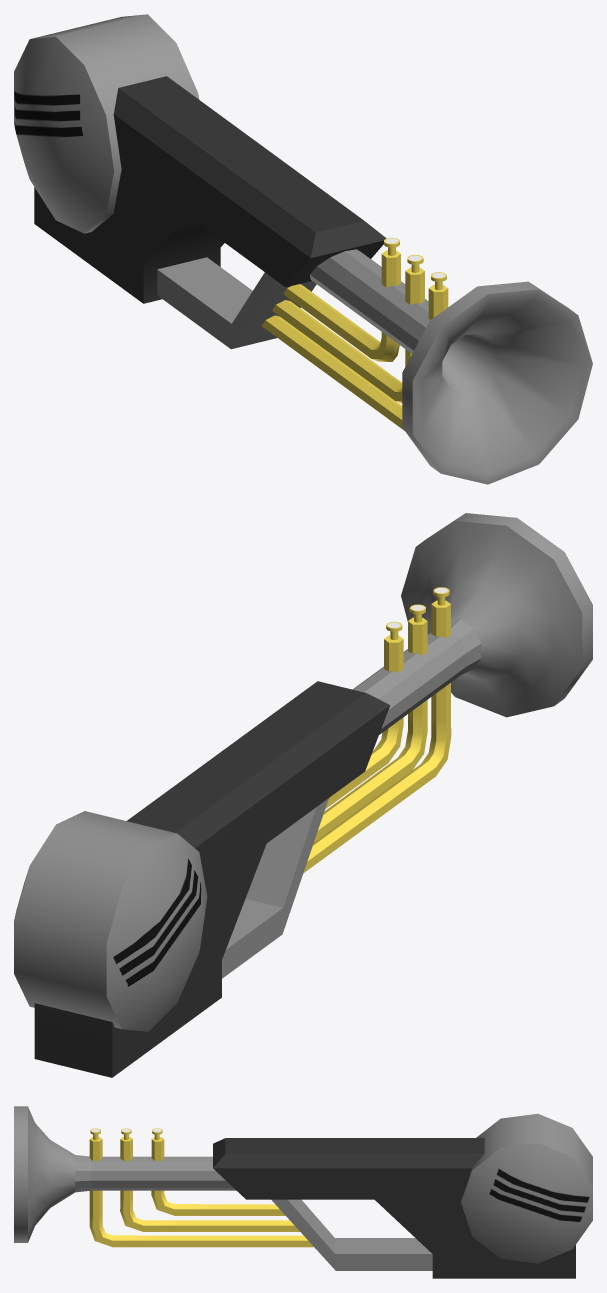
File: SnowGun.FBX
3 renders of one model, top to bottom at view 1: azimuth 30°, elevation 25°; view 2: azimuth 150°, elevation 25°; view 3: azimuth 270°, elevation 25°, orthographic. The views are drawn at different scales.
Parts seen in each view (by area): view 1: Cylinder001; view 2: Cylinder001; view 3: Cylinder001.
Boxes of the visible parts, x1,y1,x2,y2 form: Cylinder001: (14,14,592,484); Cylinder001: (14,513,592,1077); Cylinder001: (14,1106,592,1278).
Size of the model in its own units: 0.2489 by 0.3127 by 1.05.
Materials: 1 (1 with a texture image).
